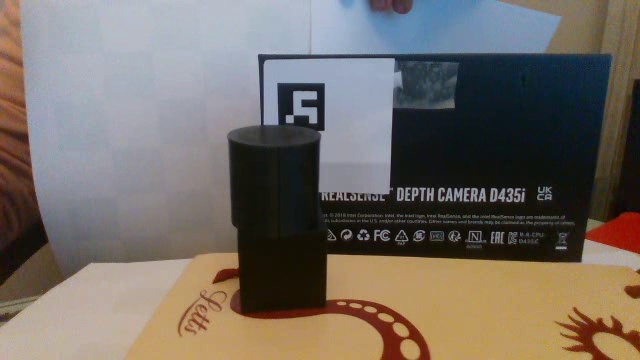cube: (230, 221, 337, 321), (189, 270, 230, 277)
cylindre: (218, 117, 329, 240)
